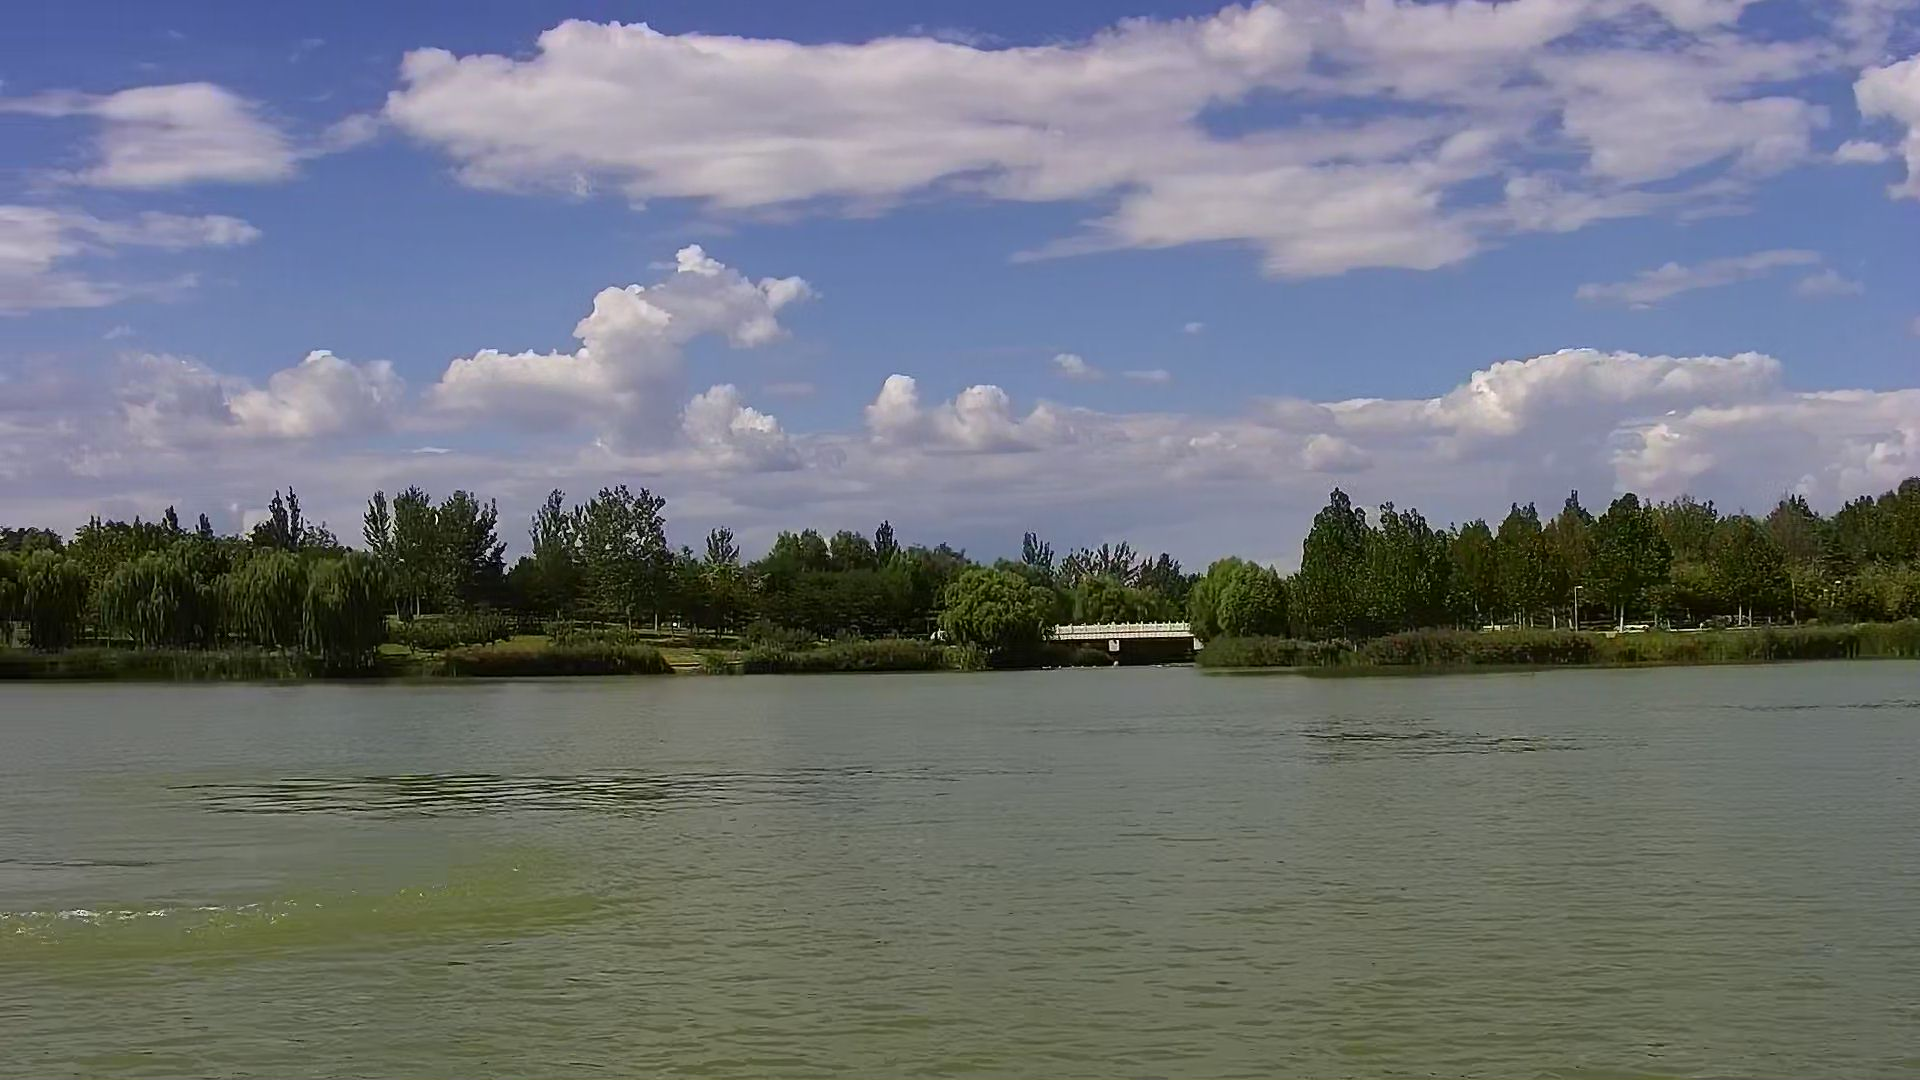bridge: (1056, 620, 1192, 665)
